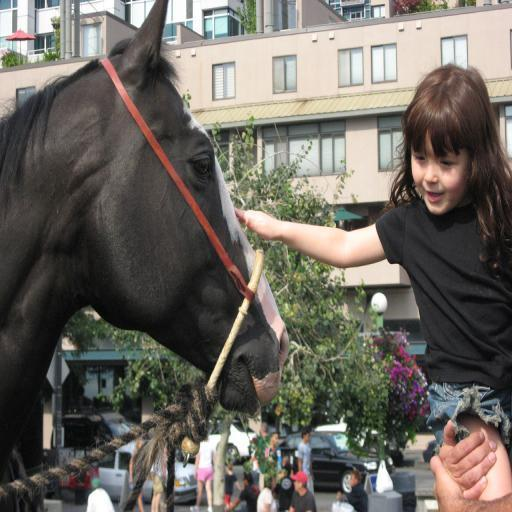horse: (0, 0, 291, 480)
